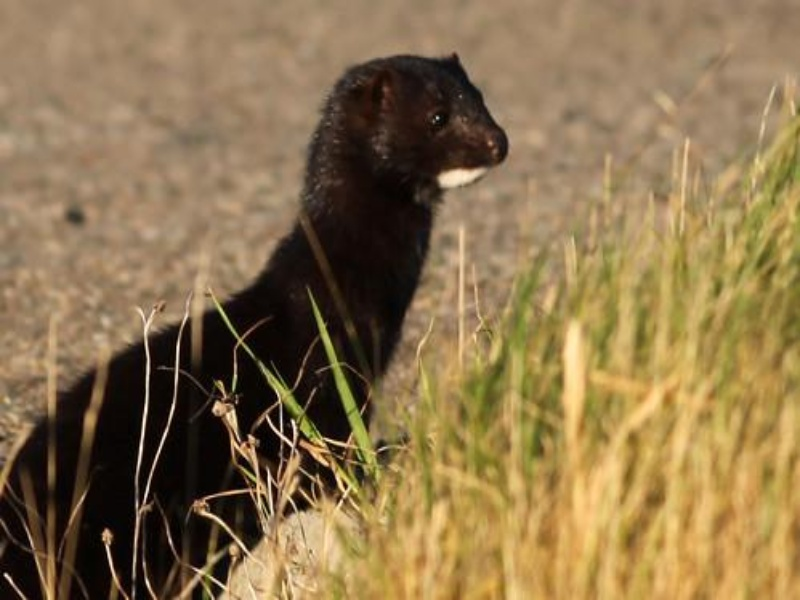minkish: (9, 51, 510, 596)
